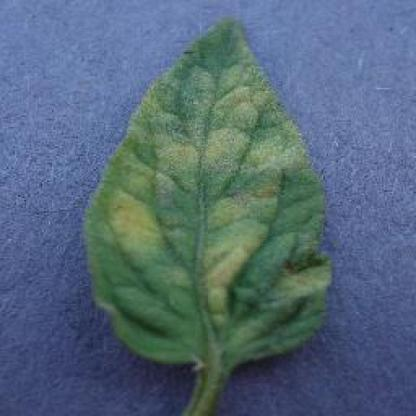Tomato_Leaf_Mold: (88, 21, 332, 366)
